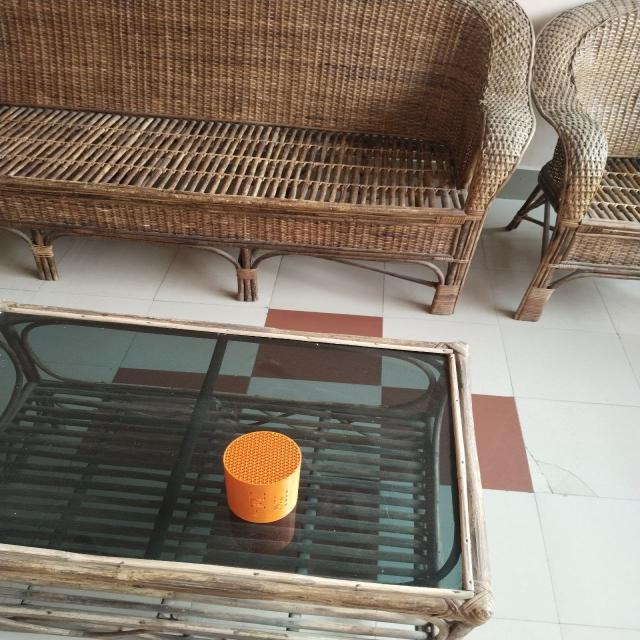Cylinder: (221, 429, 302, 524)
